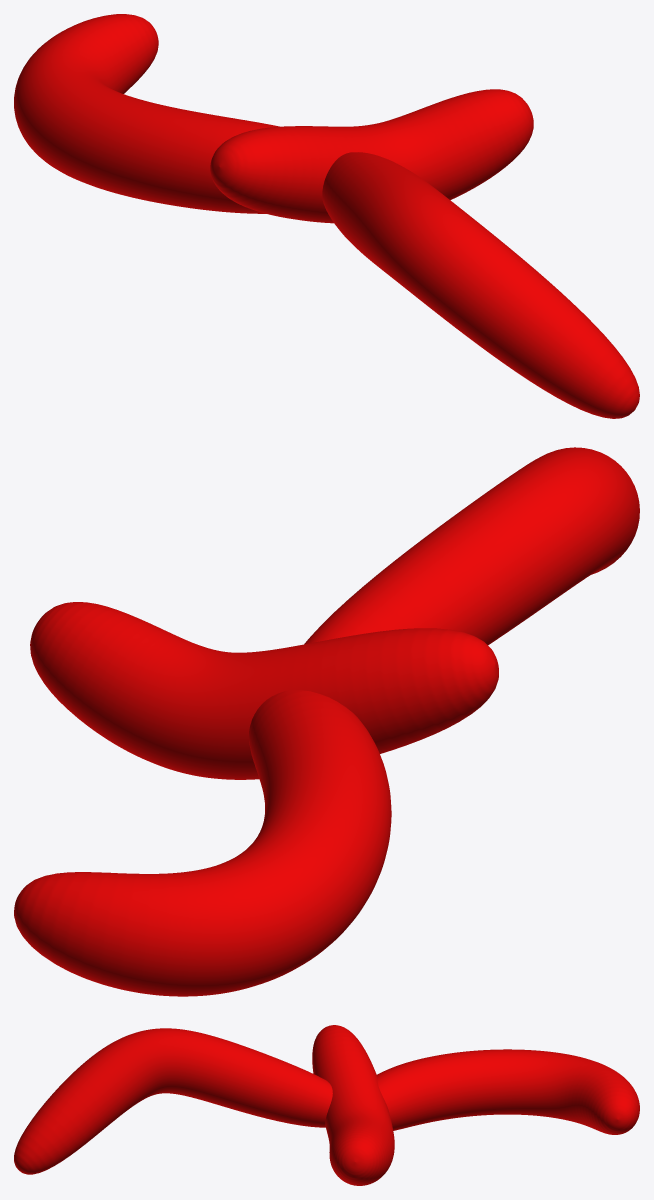
The model's file is Figure_32.fbx.
The picture shows the model from 3 angles, top to bottom: view 1: azimuth 30°, elevation 25°; view 2: azimuth 150°, elevation 25°; view 3: azimuth 270°, elevation 25°; orthographic projection. The views are drawn at different scales.
Visible parts, largest first — view 1: Figure_32; view 2: Figure_32; view 3: Figure_32.
Part boxes in pixels (x1,y1,x2,y2): Figure_32: [14, 14, 639, 418]; Figure_32: [14, 447, 639, 996]; Figure_32: [14, 1025, 639, 1185].
Bounding box in the file's own units: 46.14 × 20.42 × 103.
